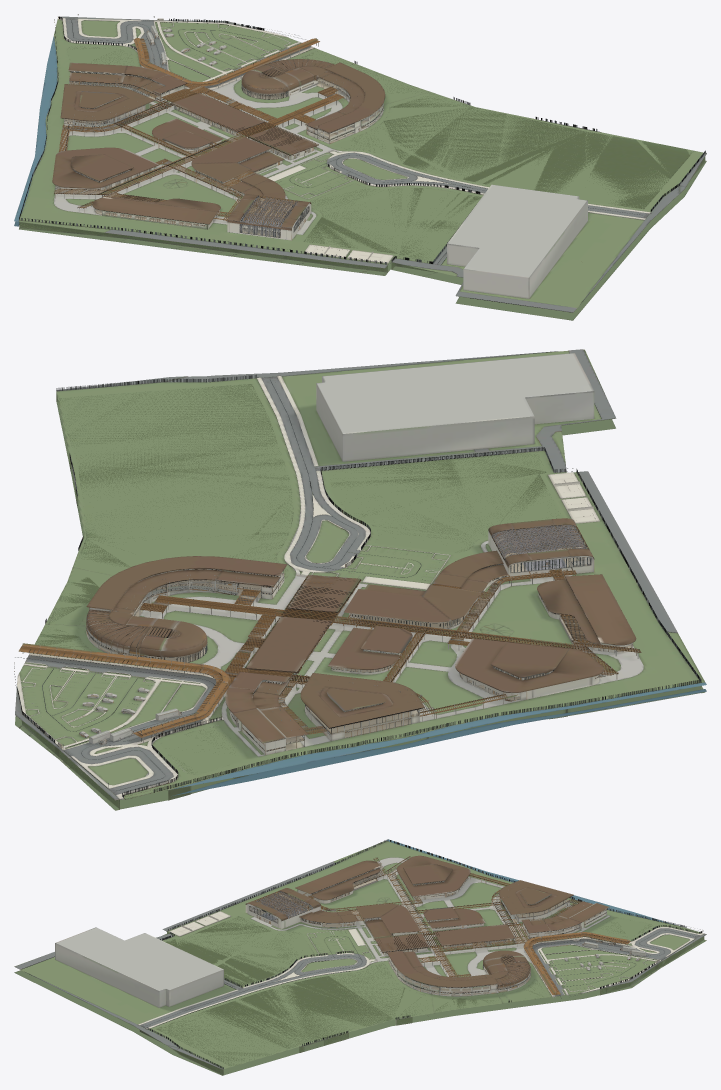
File: Net-Zero-School-light.glb
3 renders of one model, top to bottom at view 1: azimuth 30°, elevation 25°; view 2: azimuth 150°, elevation 25°; view 3: azimuth 270°, elevation 25°, orthographic. The views are drawn at different scales.
Visible parts, largest first — view 1: bakegroup_site, bakegroup_canopies, bakegroup_gym, bakegroup_auditorium, bakegroup_highschool, bakegroup_library, bakegroup_middle, bakegroup_elementary, bakegroup_science, bakegroup_cafeteria, bakegroup_admin, bakegroup_art (+1 smaller); view 2: bakegroup_site, bakegroup_canopies, bakegroup_gym, bakegroup_highschool, bakegroup_auditorium, bakegroup_library, bakegroup_science, bakegroup_elementary, bakegroup_middle, bakegroup_cafeteria, bakegroup_admin, bakegroup_art (+1 smaller); view 3: bakegroup_site, bakegroup_canopies, bakegroup_gym, bakegroup_highschool, bakegroup_auditorium, bakegroup_library, bakegroup_middle, bakegroup_elementary, bakegroup_cafeteria, bakegroup_science, bakegroup_admin, bakegroup_art (+1 smaller).
Boxes of the visible parts, left/top/right/bottom form: bakegroup_site: left=14, top=14, right=706, bottom=320; bakegroup_canopies: left=55, top=37, right=357, bottom=221; bakegroup_gym: left=216, top=172, right=311, bottom=247; bakegroup_auditorium: left=52, top=147, right=158, bottom=194; bakegroup_highschool: left=305, top=62, right=385, bottom=144; bakegroup_library: left=60, top=84, right=168, bottom=130; bakegroup_middle: left=81, top=193, right=220, bottom=229; bakegroup_elementary: left=68, top=62, right=187, bottom=102; bakegroup_science: left=241, top=59, right=334, bottom=99; bakegroup_cafeteria: left=191, top=137, right=284, bottom=187; bakegroup_admin: left=162, top=90, right=316, bottom=155; bakegroup_art: left=152, top=118, right=223, bottom=154; bakegroup_site: left=14, top=349, right=706, bottom=810; bakegroup_canopies: left=18, top=567, right=638, bottom=748; bakegroup_gym: left=432, top=518, right=620, bottom=599; bakegroup_highschool: left=86, top=556, right=287, bottom=616; bakegroup_auditorium: left=455, top=638, right=607, bottom=701; bakegroup_library: left=289, top=673, right=424, bottom=741; bakegroup_science: left=86, top=607, right=207, bottom=662; bakegroup_elementary: left=225, top=671, right=327, bottom=755; bakegroup_middle: left=537, top=574, right=640, bottom=652; bakegroup_cafeteria: left=344, top=584, right=481, bottom=630; bakegroup_admin: left=245, top=576, right=357, bottom=680; bakegroup_art: left=328, top=626, right=412, bottom=674; bakegroup_site: left=14, top=839, right=706, bottom=1075; bakegroup_canopies: left=300, top=857, right=630, bottom=998; bakegroup_gym: left=245, top=888, right=360, bottom=929; bakegroup_highschool: left=387, top=951, right=498, bottom=996; bakegroup_auditorium: left=388, top=855, right=473, bottom=900; bakegroup_library: left=496, top=880, right=573, bottom=926; bakegroup_middle: left=295, top=858, right=384, bottom=903; bakegroup_elementary: left=521, top=899, right=609, bottom=939; bakegroup_cafeteria: left=356, top=904, right=420, bottom=940; bakegroup_science: left=483, top=950, right=530, bottom=992; bakegroup_admin: left=373, top=924, right=528, bottom=951; bakegroup_art: left=423, top=907, right=485, bottom=931.
Size of the model in its own units: 378 by 17.26 by 481.
1 material, 1 textured.
